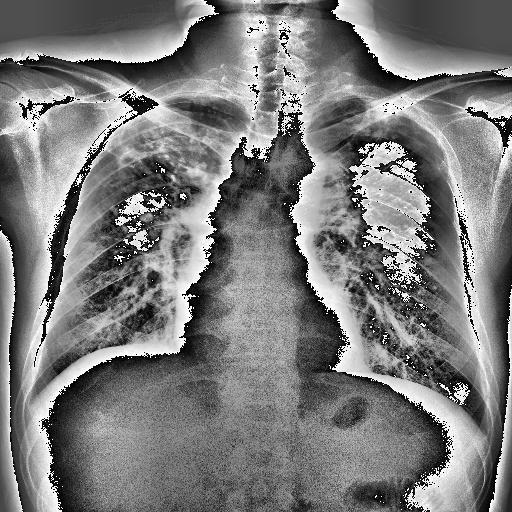0- Aortic enlargement: (274, 144, 328, 199)
11- Pleural thickening: (172, 91, 224, 106)
13- Pulmonary fibrosis: (312, 104, 450, 266), (73, 106, 241, 238), (90, 105, 236, 246), (93, 104, 240, 244), (299, 94, 449, 228), (324, 101, 446, 194)
6- Infiltration: (93, 104, 240, 244), (299, 94, 449, 228)
7- Lung Opacity: (398, 224, 438, 252), (402, 224, 434, 246), (416, 159, 444, 183)
